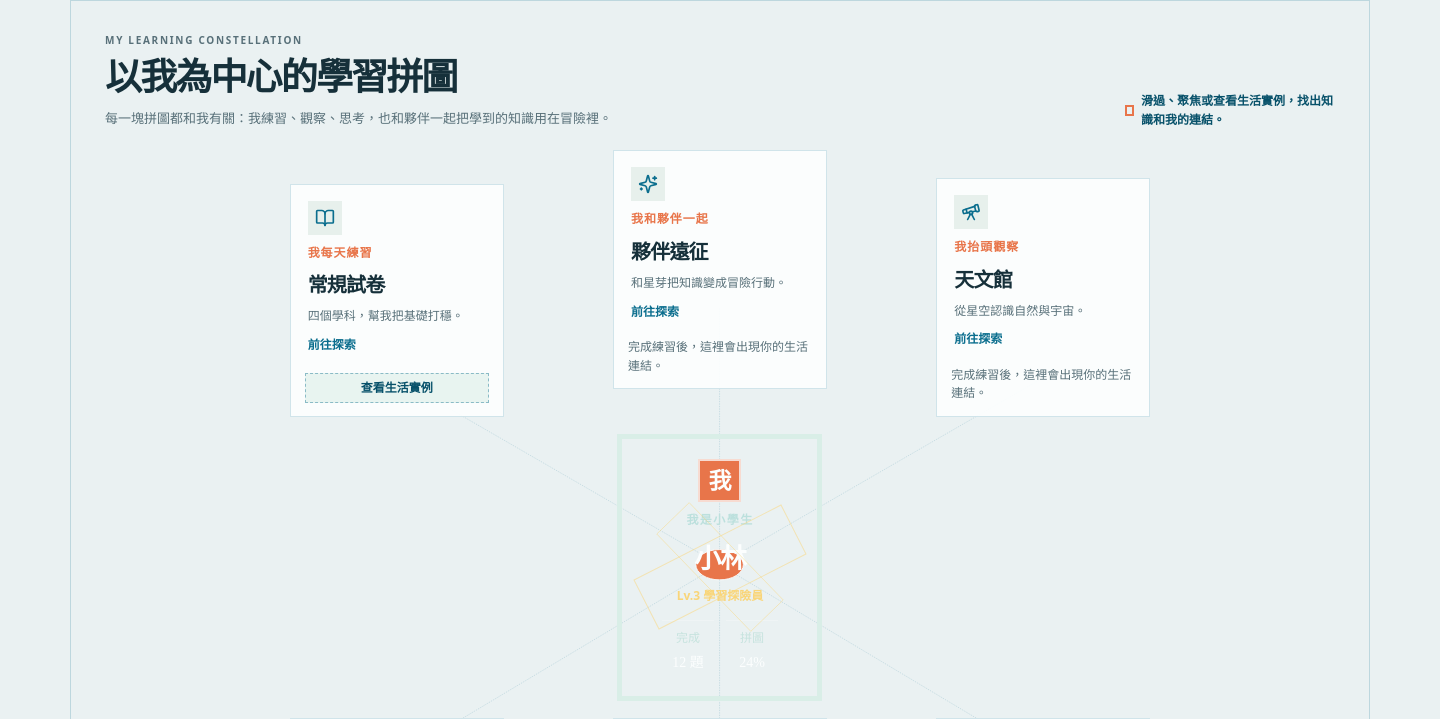
StudentRelationMap › shows the life example on keyboard focus with matching ARIA state and Escape closes it
This screenshot has width=1440, height=719.
Focus the button "我每天練習 常規試卷 四個學科，幫我把基礎打穩。 前往探索". click: (397, 278)
box: [291,185,503,372]
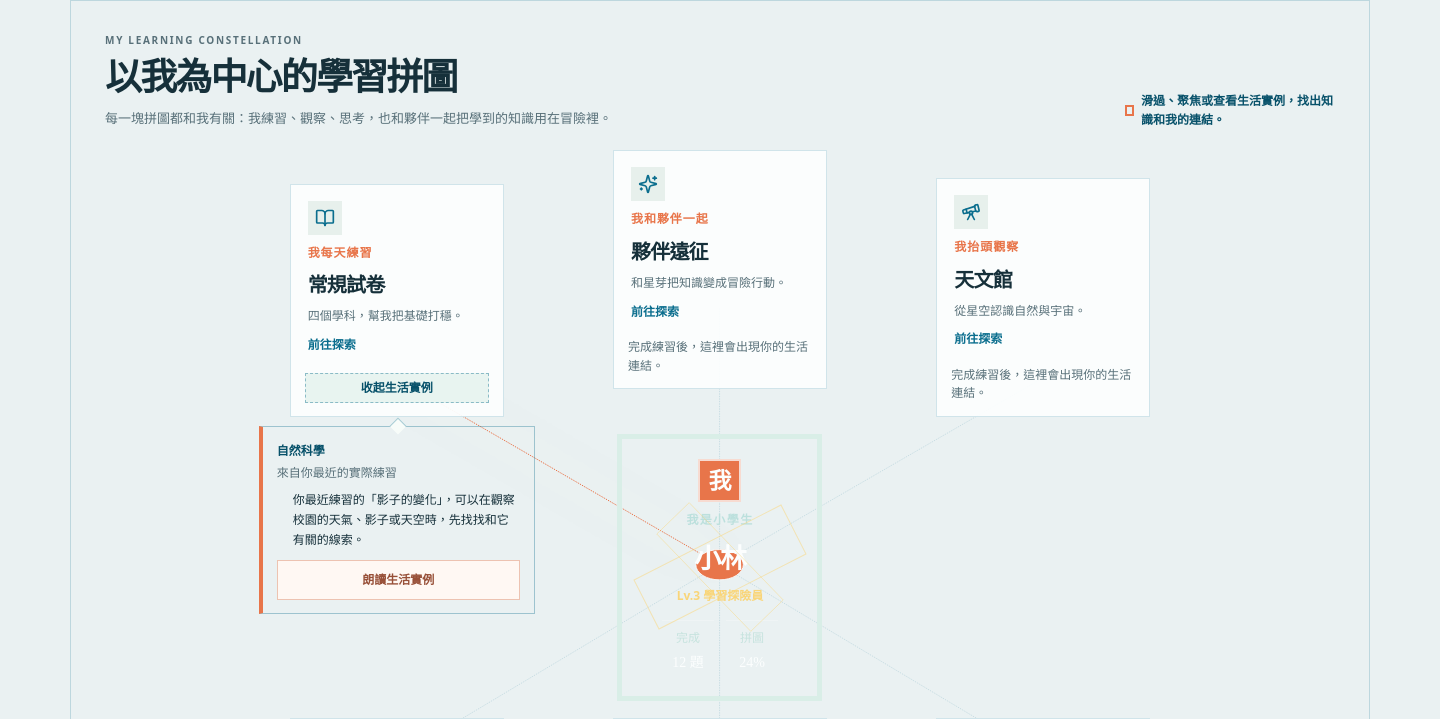
Expected: the tooltip named "常規試卷的生活連結" is shown, [259,426,535,614]
Press Escape in the button "我每天練習 常規試卷 四個學科，幫我把基礎打穩。 前往探索", box [291,185,503,372]
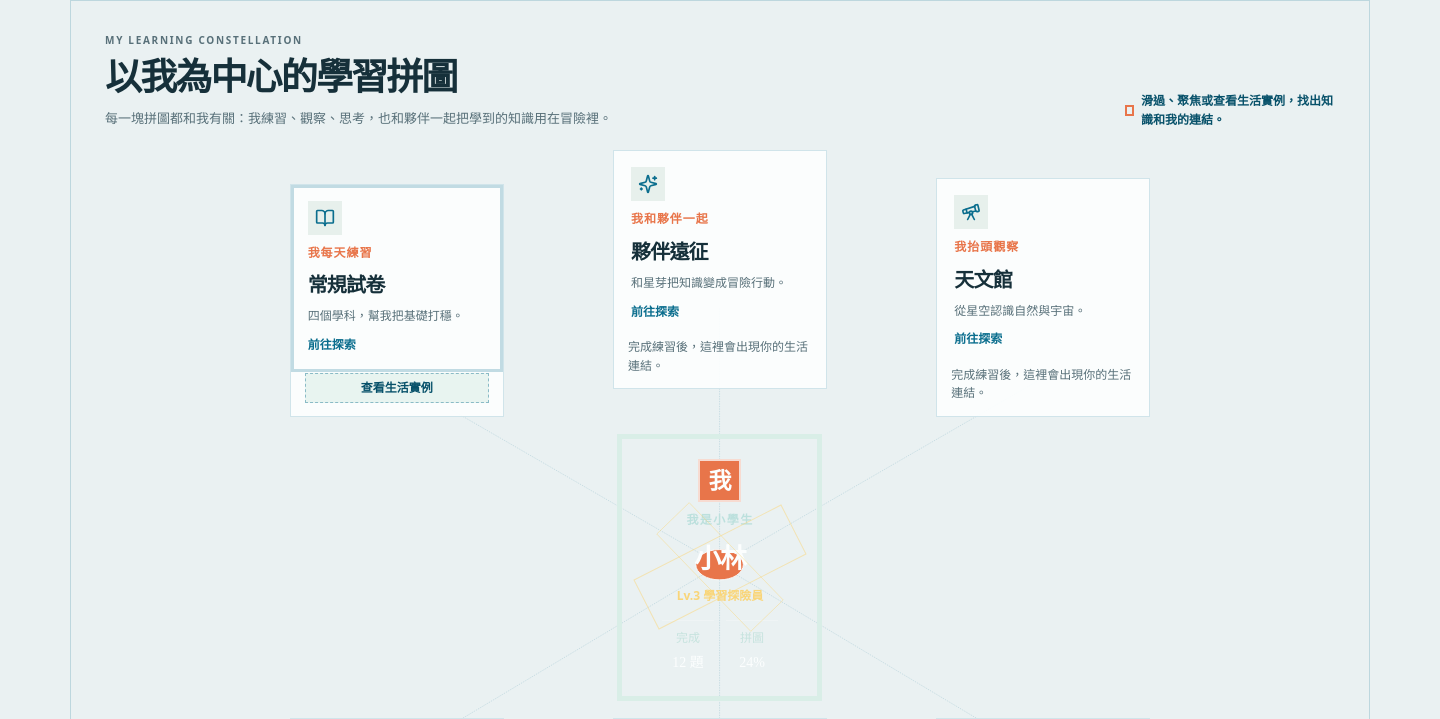
Expected: the button "我每天練習 常規試卷 四個學科，幫我把基礎打穩。 前往探索" is collapsed, [291,185,503,372]
Expected: the tooltip "常規試卷的生活連結" is gone
